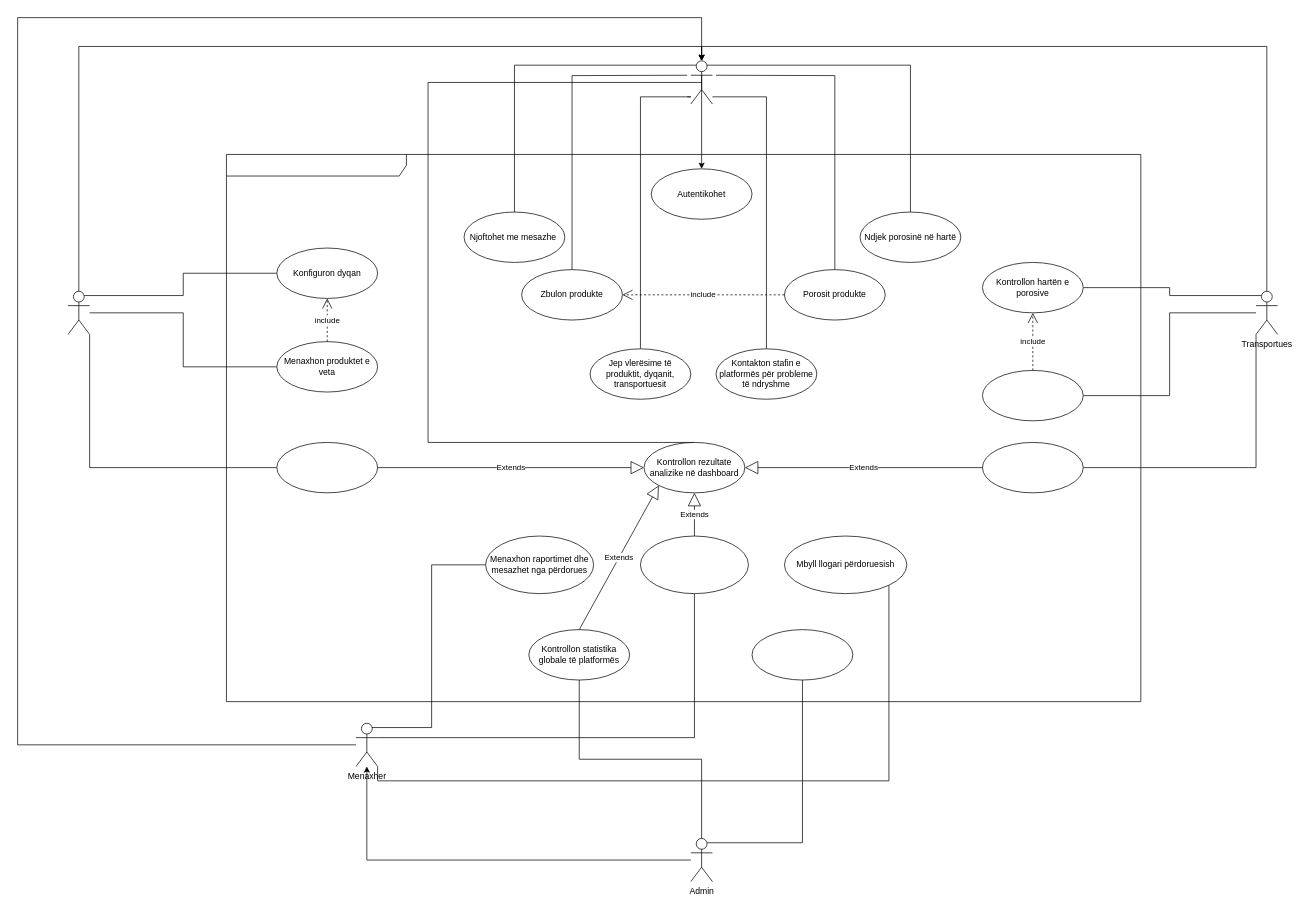
This 1305x909 diagram has some shape labels left out. Here are the shapes that lost their labels. From the top down, the box of each, then its label:
(690, 60, 712, 104): Konsumator (User)
(67, 291, 90, 334): Shitës
(982, 370, 1083, 421): Pranon porosi
(226, 154, 1141, 702): AgroExpress (Platformë Shitje-Blerjesh)
(276, 442, 378, 493): Kontrollon shitjet e produkteve
(982, 442, 1083, 493): Kontrollon porositë e përmbushura
(640, 535, 748, 594): Kontrollon raportimet dhe llogaritë e mbyllura
(751, 629, 853, 680): Menaxhon llogaritë e menaxherëve
